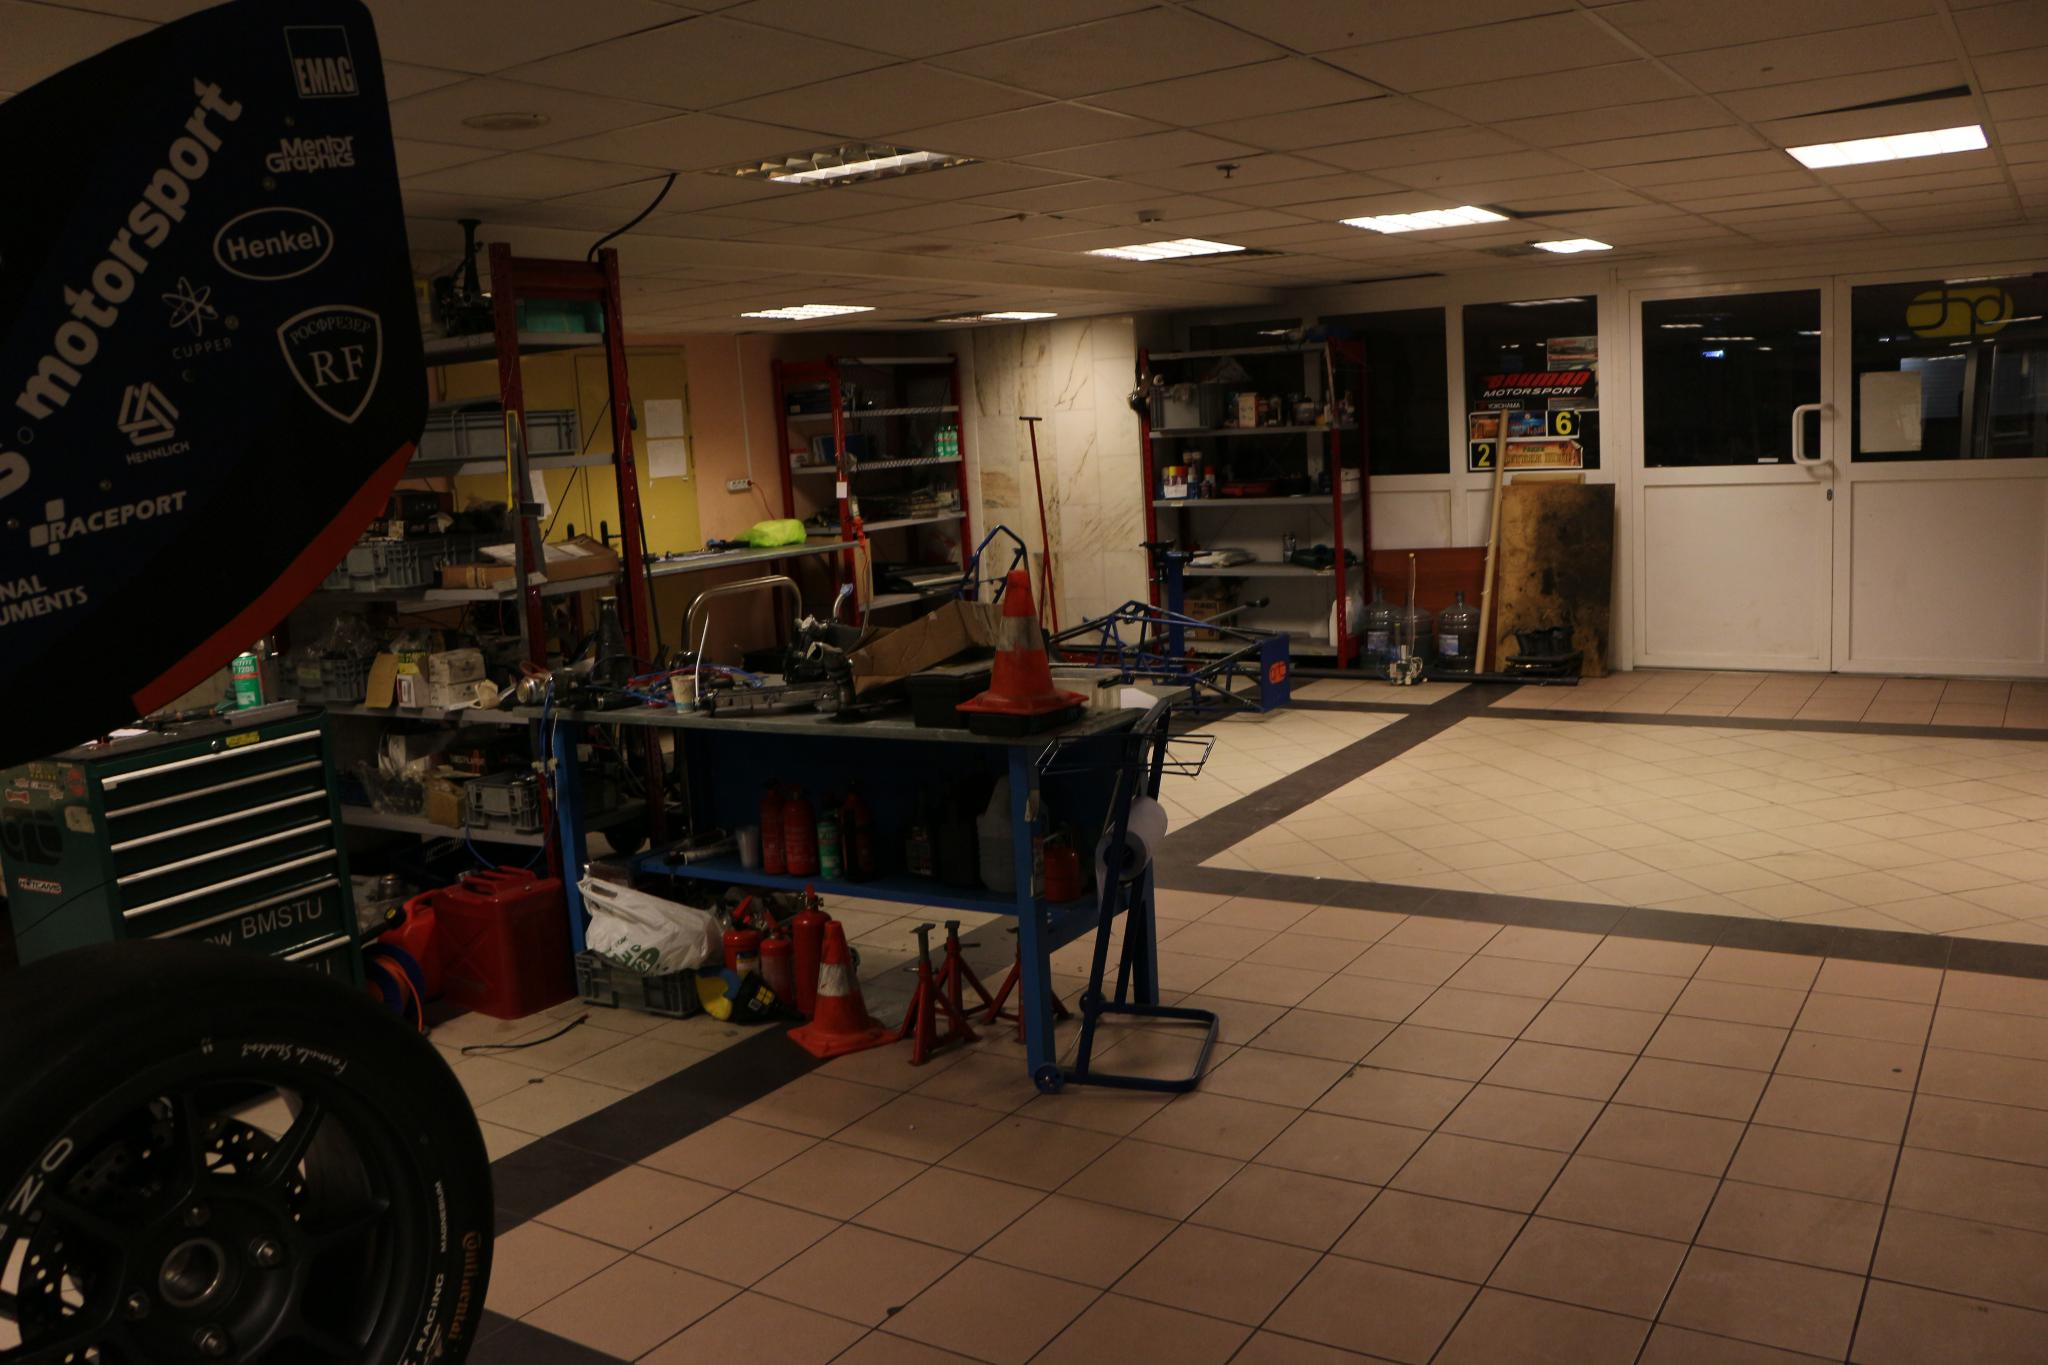Orange_Cone: (959, 562, 1079, 719), (785, 915, 889, 1054)
